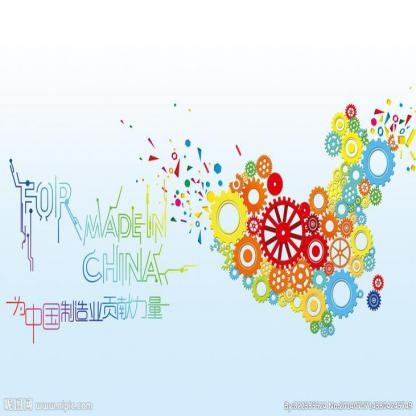FOD: (323, 265, 360, 322), (360, 135, 397, 190), (364, 287, 381, 315)
